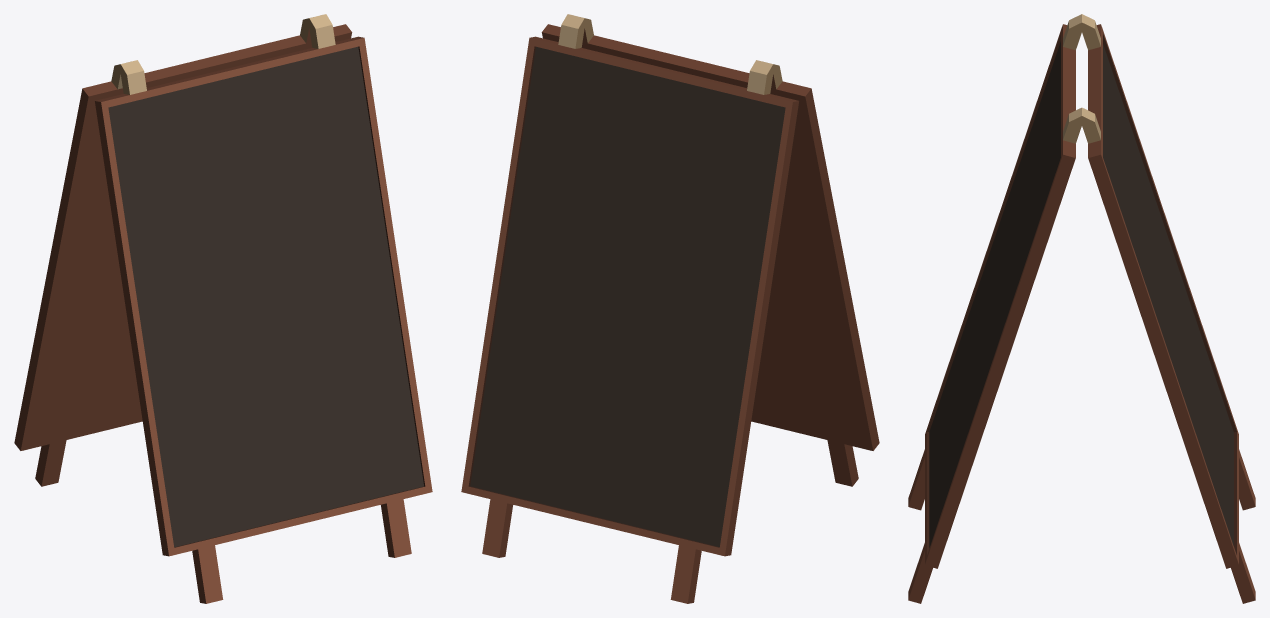
Rendered from QR_BlackBoard.glb.
The picture shows the model from 3 angles, left to right: view 1: azimuth 30°, elevation 25°; view 2: azimuth 150°, elevation 25°; view 3: azimuth 270°, elevation 25°; orthographic projection.
Parts seen in each view (by area): view 1: QR_BlackBoard; view 2: QR_BlackBoard; view 3: QR_BlackBoard.
Boxes of the visible parts, x1,y1,x2,y2 form: QR_BlackBoard: [14, 14, 432, 603]; QR_BlackBoard: [461, 14, 879, 603]; QR_BlackBoard: [908, 14, 1255, 603].
Size of what is drawn, in the model's own units: 0.9788 by 1.71 by 1.1.
1 material, 1 textured.
